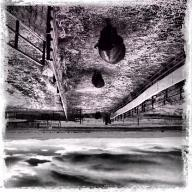boar: (95, 24, 126, 65), (92, 71, 104, 88), (93, 111, 103, 119)
